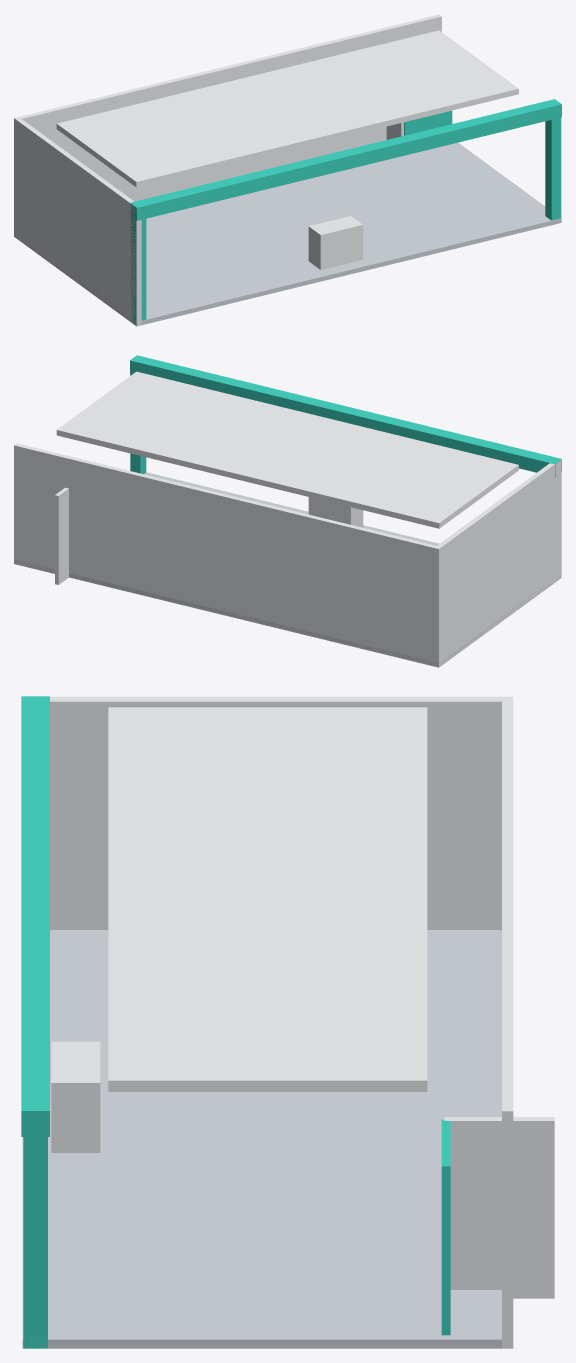
The picture shows the model from 3 angles, top to bottom: view 1: azimuth 30°, elevation 25°; view 2: azimuth 150°, elevation 25°; view 3: azimuth 270°, elevation 25°; orthographic projection. The views are drawn at different scales.
Parts seen in each view (by area): view 1: Exhibition Booth Concept; view 2: Exhibition Booth Concept; view 3: Exhibition Booth Concept.
Boxes of the visible parts, box(x1,y1,x2,y2) form: Exhibition Booth Concept: box(14, 14, 561, 326); Exhibition Booth Concept: box(14, 355, 561, 667); Exhibition Booth Concept: box(21, 696, 554, 1348).
Size of the model in its own units: 12 by 3.34 by 6.52.
